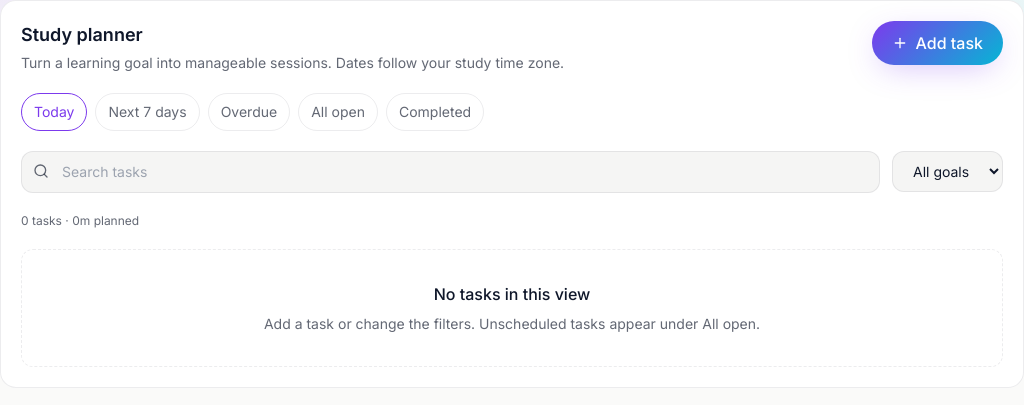
Test: study goal and planner forms › filters tasks without treating completed work as overdue
Click the button "Overdue": (249, 112) [208,93,290,131]
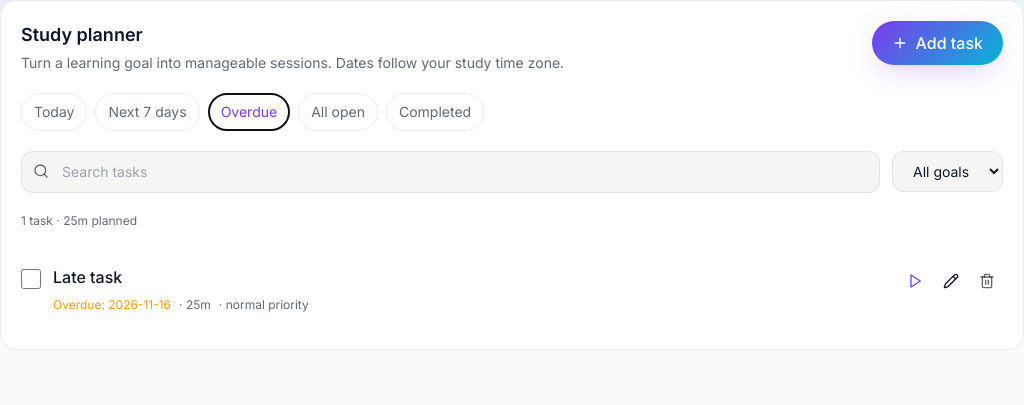
expect the text "Late task" is shown: met, box [53,267,122,287]
